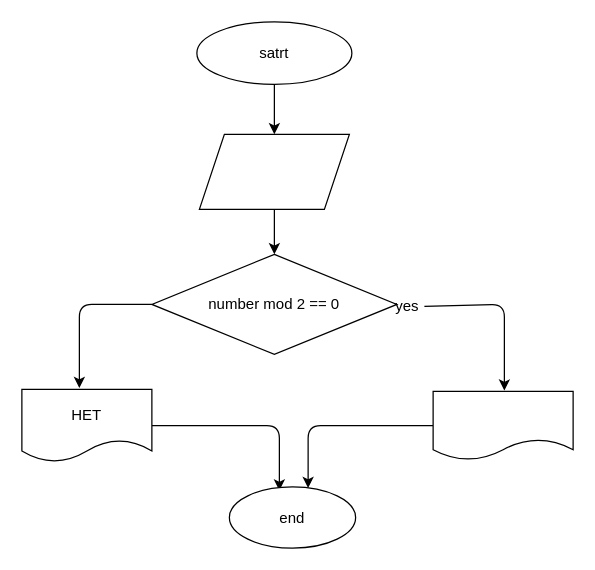
The diagram is 595 pixels wide and 570 high, and some of its shapes have lost their labels. Here are the shapes that lost their labels. From the top down, the centre of each, then its label:
At point (273, 171): "number".
At point (502, 425): "ДА".
